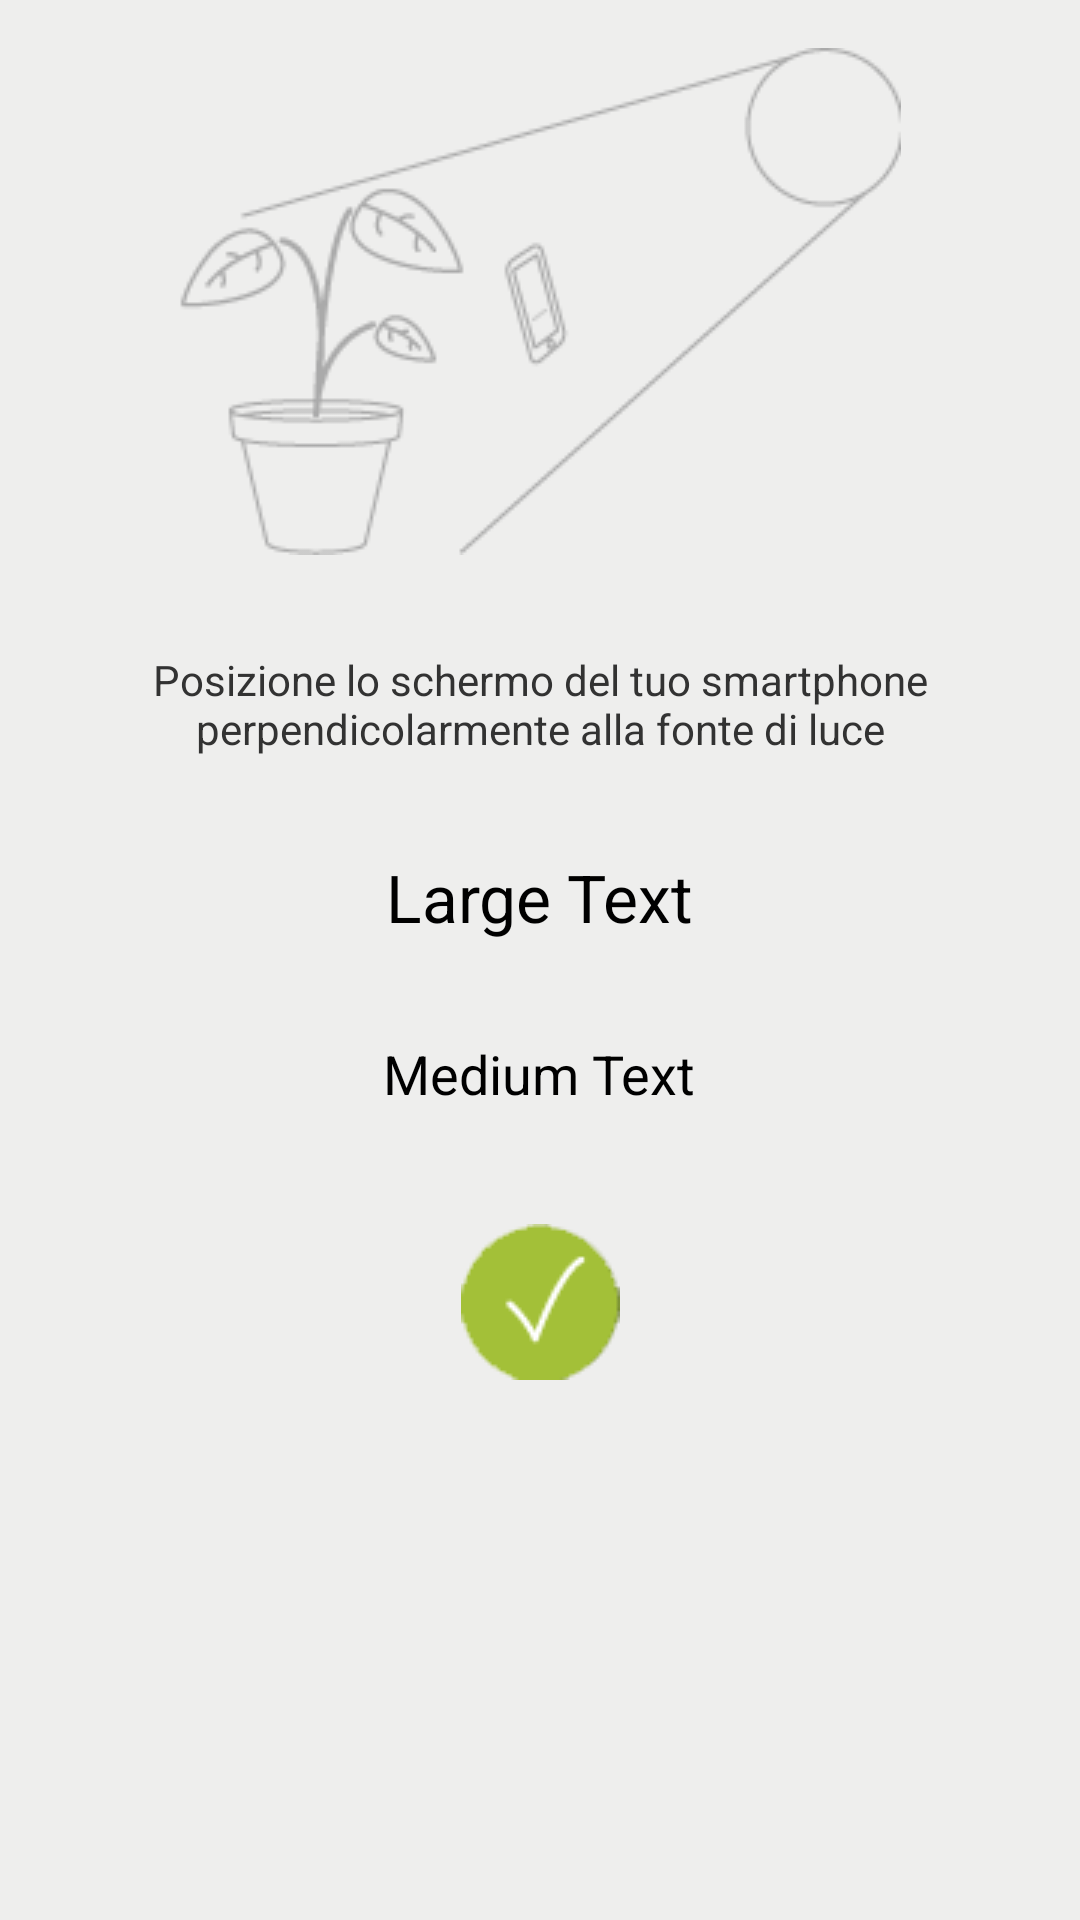

Icon bounding boxes for this 1080x1920 phone screenshot, format bbox(x1, y1, x2, y2):
fatto no sfondo: bbox(461, 1224, 620, 1380)
